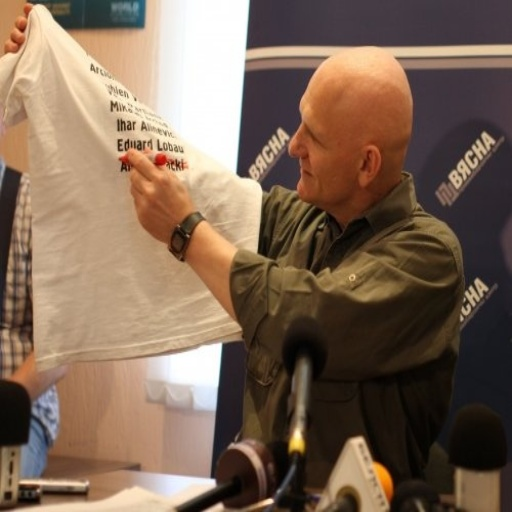hand: (111, 136, 207, 253), (2, 2, 34, 57)
